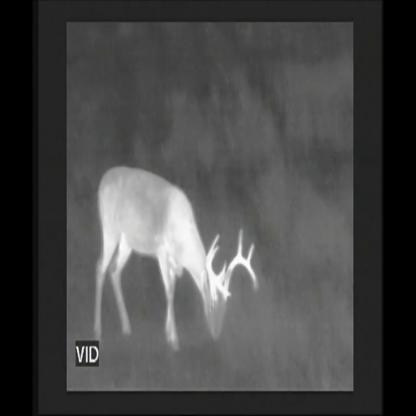rehkitze: (91, 162, 262, 354)
